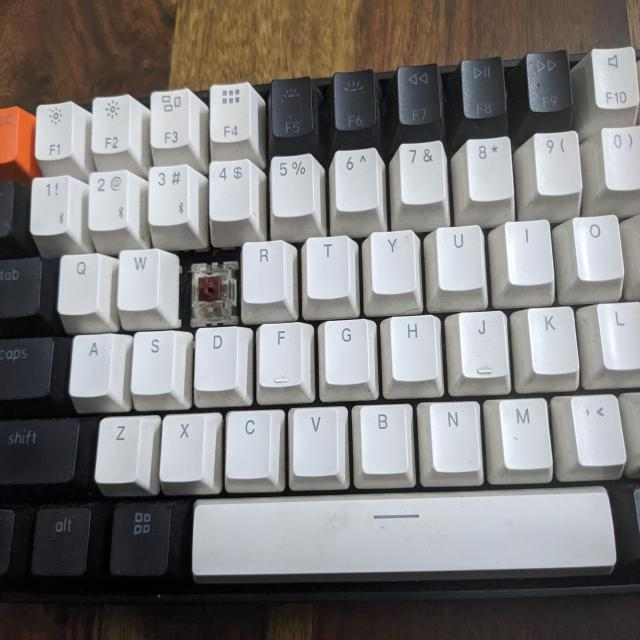C: (192, 256, 230, 323)
